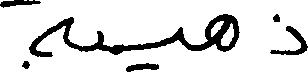X: (0, 0, 68, 71), (272, 9, 307, 59), (206, 9, 236, 56), (96, 26, 101, 54), (178, 22, 181, 47)
